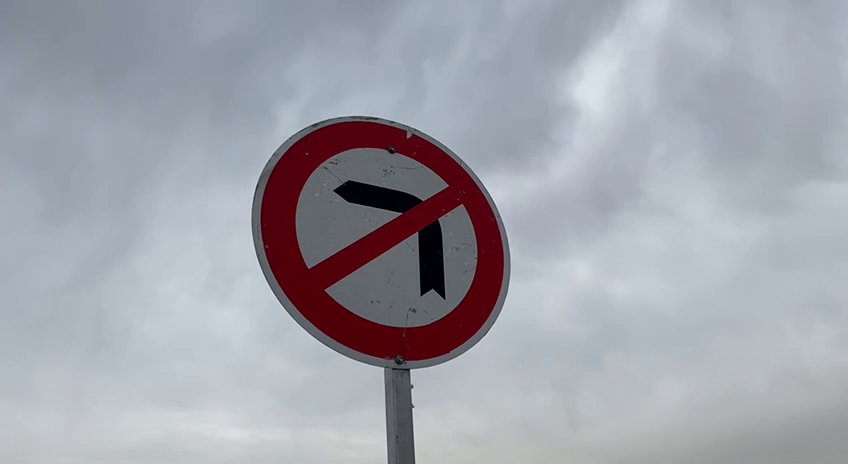noTurnLeft: (242, 110, 519, 375)
